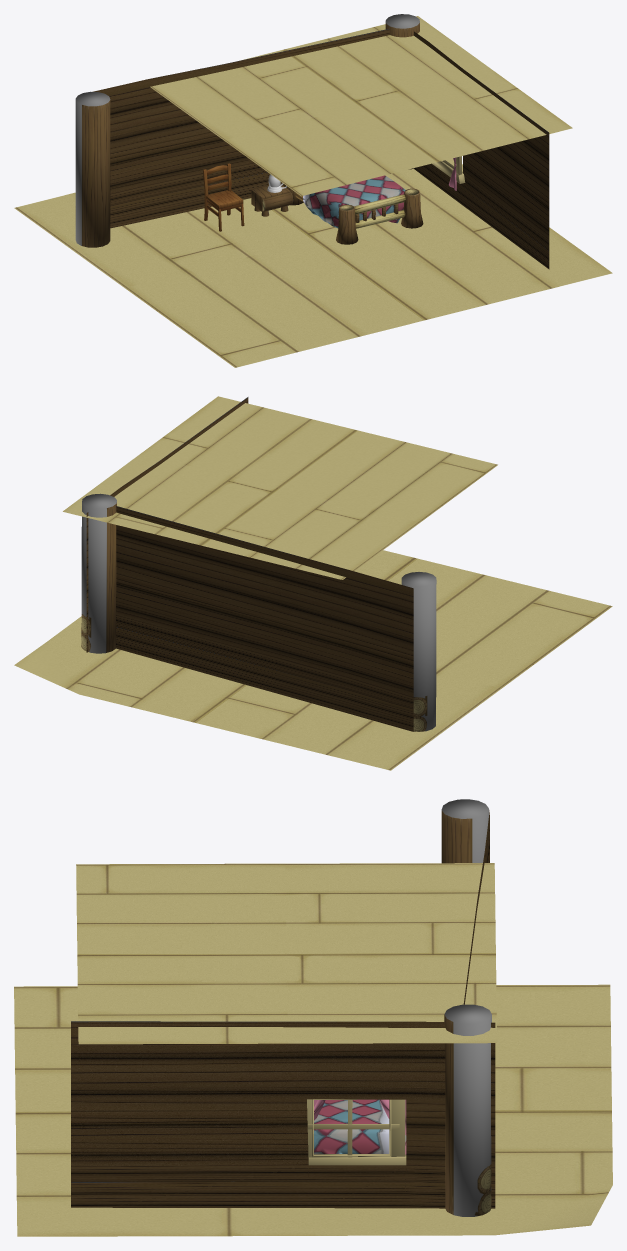
The model's file is bedroom_v2.fbx.
3 renders of one model, top to bottom at view 1: azimuth 30°, elevation 25°; view 2: azimuth 150°, elevation 25°; view 3: azimuth 270°, elevation 25°, orthographic. The views are drawn at different scales.
Parts seen in each view (by area): view 1: room, wall2.002, wall2.001, MultiEdit.001, blanket, New Geometry.002, chair__2_, dresser, window; view 2: room, wall2.002, MultiEdit.001, wall2.001; view 3: room, wall2.001, MultiEdit.001, window, blanket.
Boxes of the visible parts, x1,y1,x2,y2 form: room: (14,16,612,367); wall2.002: (92,28,389,228); wall2.001: (413,31,549,269); MultiEdit.001: (75,14,419,247); blanket: (303,175,405,228); New Geometry.002: (284,184,423,244); chair__2_: (203,163,244,231); dresser: (251,184,293,216); window: (432,156,465,190); room: (14,396,612,770); wall2.002: (116,506,413,731); MultiEdit.001: (81,493,436,731); wall2.001: (86,397,248,652); room: (14,863,612,1236); wall2.001: (71,1021,495,1208); MultiEdit.001: (441,799,491,1216); window: (307,1099,406,1165); blanket: (314,1099,389,1154).
Bounding box in the file's own units: 472 × 175 × 473.
